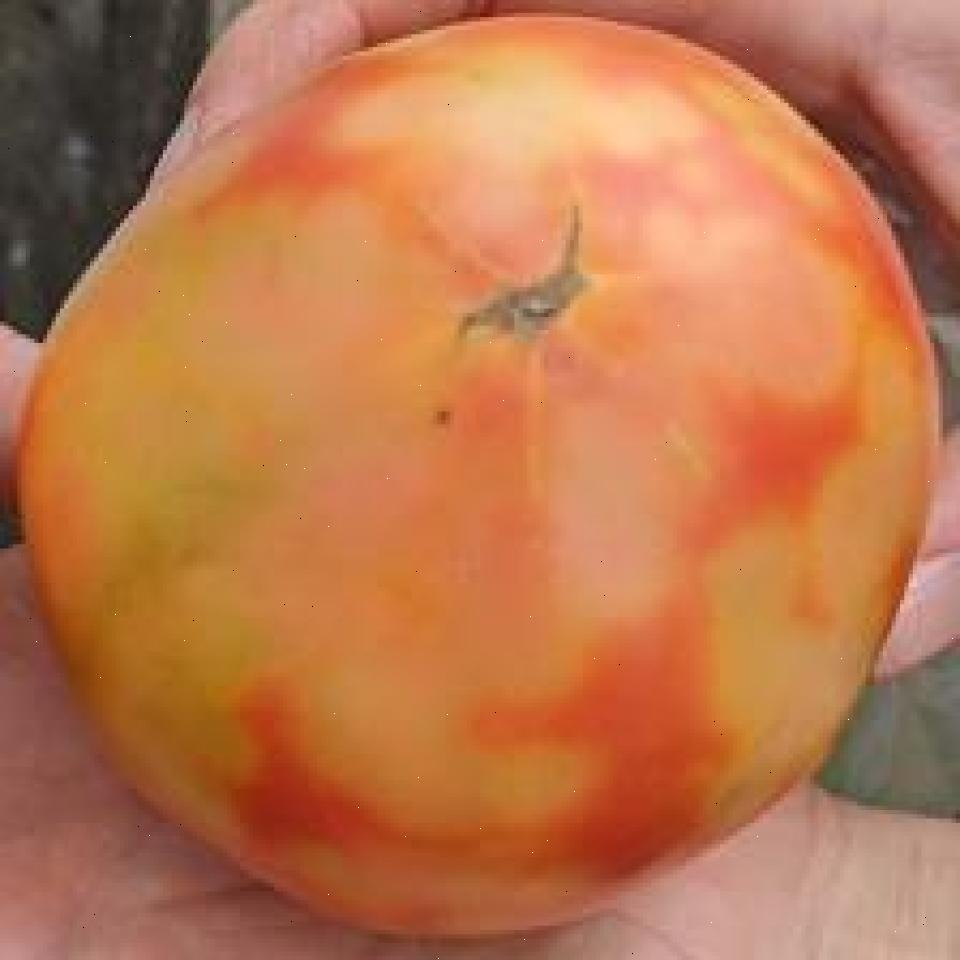Spotted wilt Virus: (20, 11, 944, 936)
